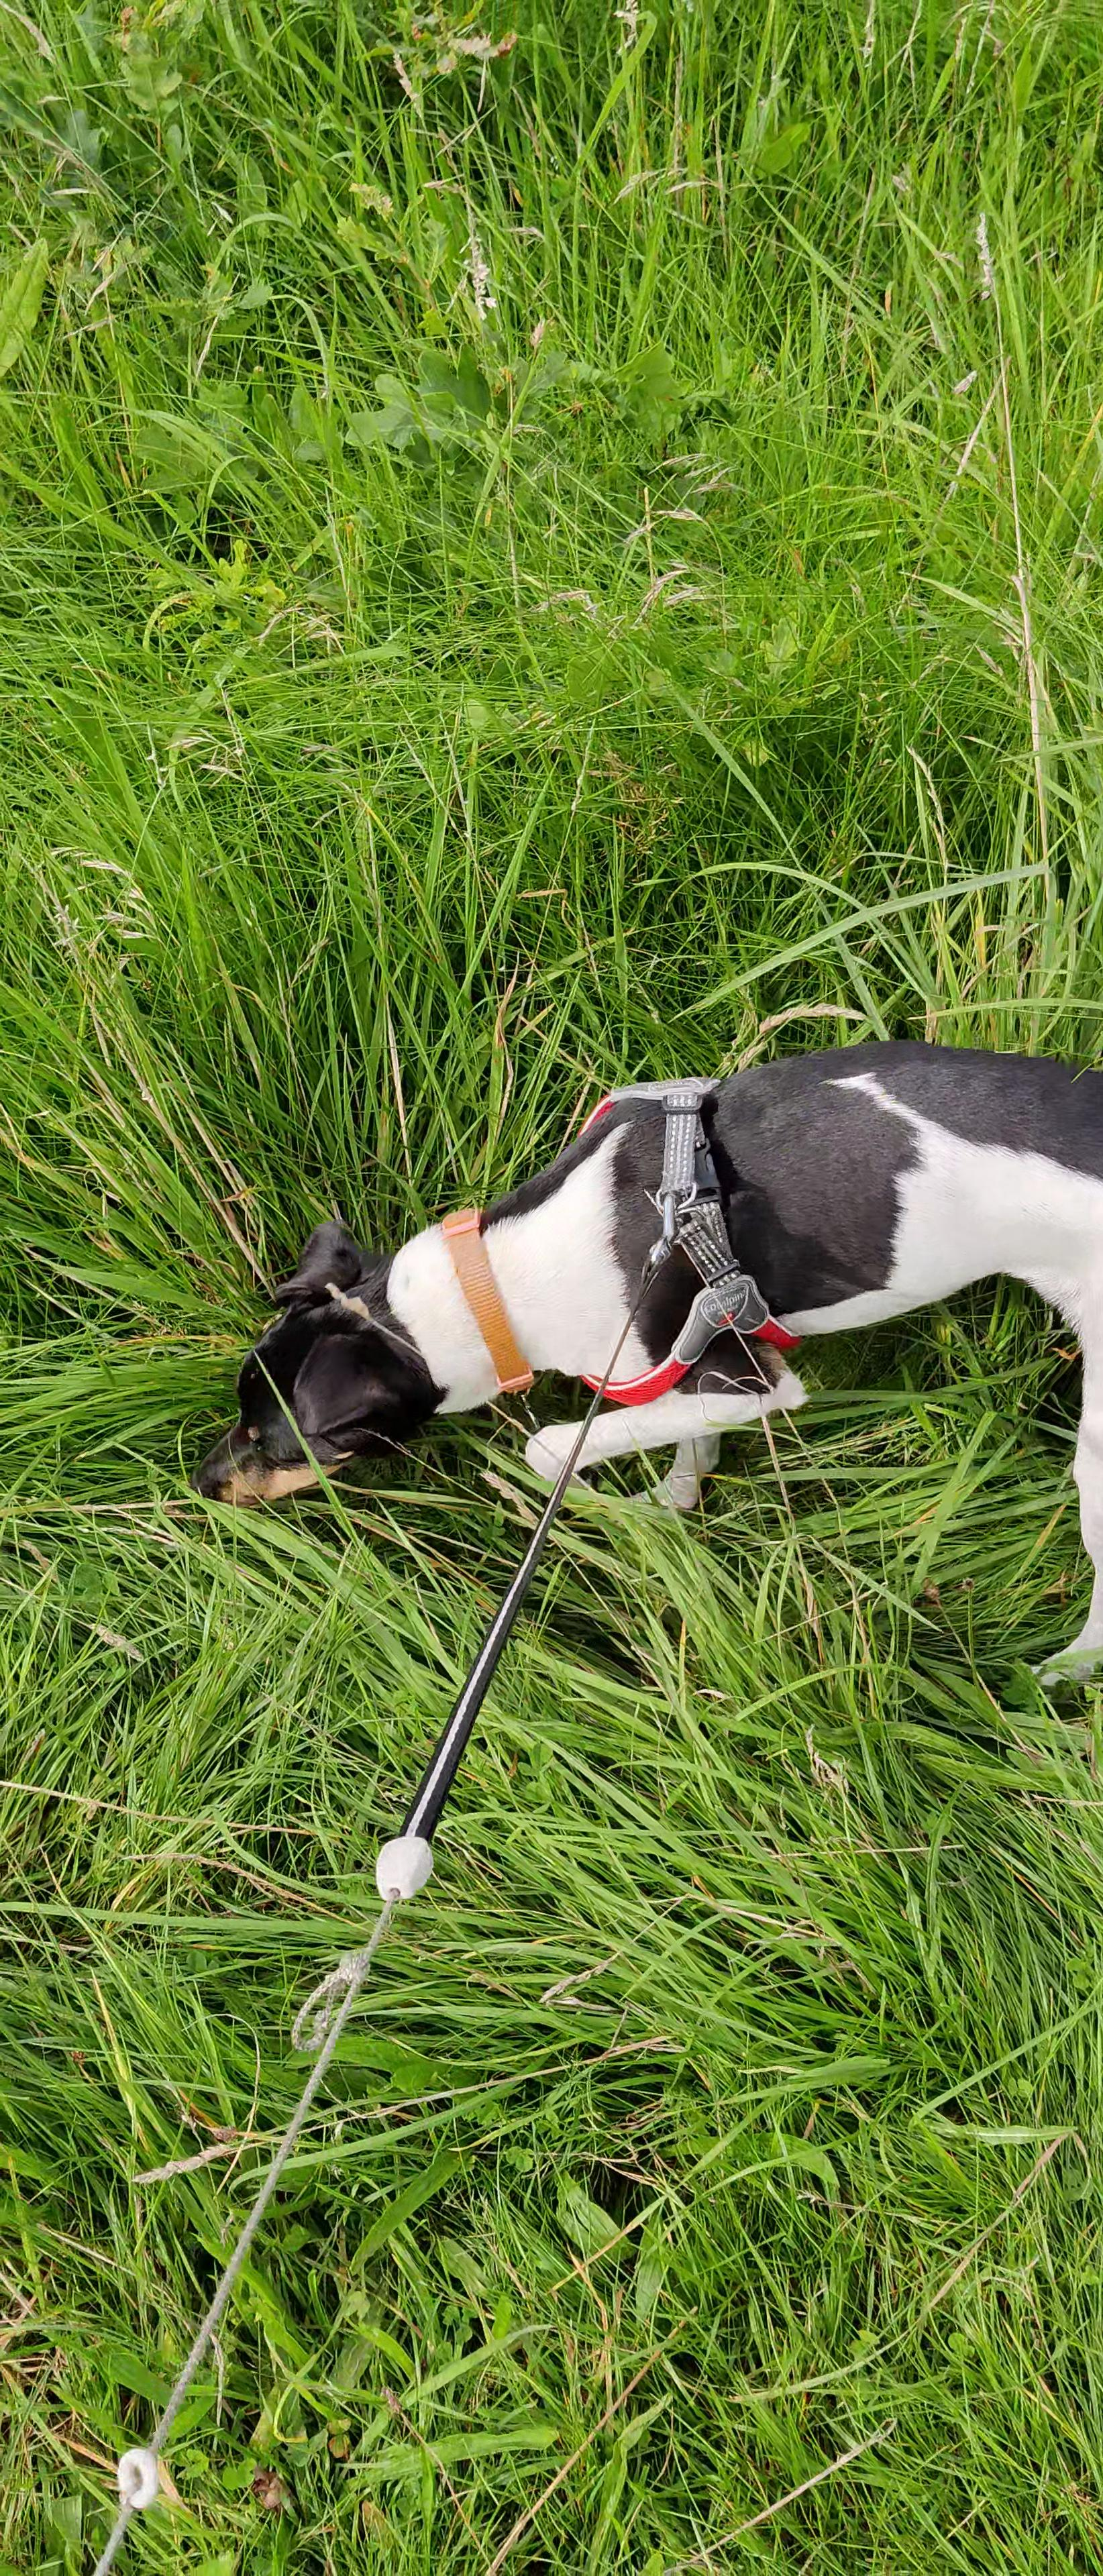Dog: (182, 1028, 1103, 1697)
